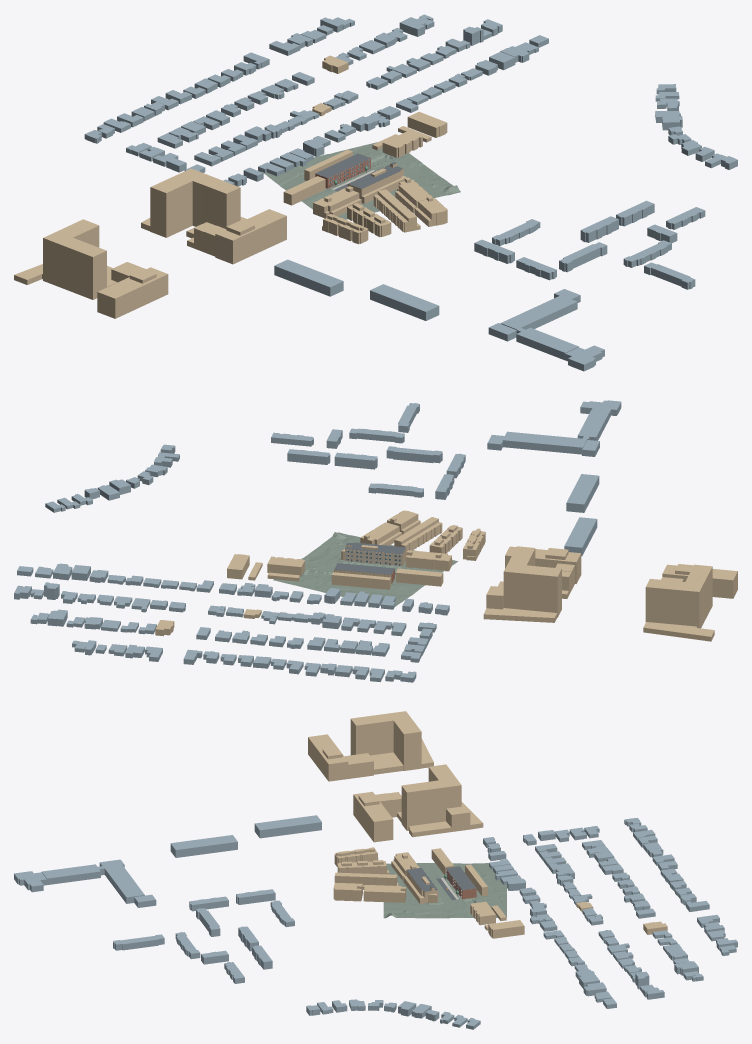
File: BrainSNN_Street_Studio.glb
The picture shows the model from 3 angles, top to bottom: view 1: azimuth 30°, elevation 25°; view 2: azimuth 150°, elevation 25°; view 3: azimuth 270°, elevation 25°; orthographic projection. The views are drawn at different scales.
Visible parts, largest first — view 1: bldg-127798, bldg-127802, terrain-2023-ground, bldg-127793, bldg-129786, bldg-127808, bldg-129787, bldg-128883, bldg-128882, bldg-130161, bldg-128896, bldg-130158 (+9 smaller); view 2: bldg-127802, terrain-2023-ground, bldg-127798, bldg-129786, bldg-129787, bldg-127808, bldg-127803, bldg-128882, bldg-127799, bldg-128883, bldg-130160, bldg-127793 (+13 smaller); view 3: terrain-2023-ground, bldg-127802, bldg-127798, bldg-129786, bldg-127793, bldg-127808, bldg-129787, bldg-128883, bldg-128882, bldg-130134, bldg-130129, bldg-127807 (+5 smaller).
Part boxes in pixels (x1=…): bldg-127798: x1=150, y1=168, x2=240, y2=237; bldg-127802: x1=43, y1=219, x2=106, y2=299; terrain-2023-ground: x1=262, y1=142, x2=460, y2=219; bldg-127793: x1=215, y1=209, x2=286, y2=264; bldg-129786: x1=500, y1=295, x2=578, y2=360; bldg-127808: x1=97, y1=267, x2=168, y2=318; bldg-129787: x1=488, y1=289, x2=604, y2=371; bldg-128883: x1=274, y1=259, x2=343, y2=296; bldg-128882: x1=370, y1=284, x2=439, y2=320; bldg-130161: x1=382, y1=131, x2=422, y2=157; bldg-128896: x1=559, y1=242, x2=607, y2=272; bldg-130158: x1=407, y1=112, x2=447, y2=137; bldg-127802: x1=645, y1=564, x2=712, y2=628; terrain-2023-ground: x1=273, y1=532, x2=457, y2=607; bldg-127798: x1=503, y1=546, x2=561, y2=617; bldg-129786: x1=502, y1=410, x2=609, y2=454; bldg-129787: x1=487, y1=400, x2=621, y2=456; bldg-127808: x1=662, y1=564, x2=737, y2=598; bldg-127803: x1=643, y1=622, x2=714, y2=641; bldg-128882: x1=566, y1=474, x2=599, y2=512; bldg-127799: x1=483, y1=608, x2=557, y2=622; bldg-128883: x1=564, y1=517, x2=597, y2=556; bldg-130160: x1=331, y1=572, x2=390, y2=589; bldg-127793: x1=505, y1=546, x2=581, y2=583; terrain-2023-ground: x1=383, y1=863, x2=506, y2=918; bldg-127802: x1=350, y1=711, x2=421, y2=770; bldg-127798: x1=401, y1=764, x2=461, y2=830; bldg-129786: x1=42, y1=864, x2=144, y2=903; bldg-127793: x1=353, y1=791, x2=393, y2=842; bldg-127808: x1=308, y1=734, x2=348, y2=781; bldg-129787: x1=14, y1=859, x2=156, y2=907; bldg-128883: x1=254, y1=815, x2=321, y2=838; bldg-128882: x1=170, y1=835, x2=237, y2=857; bldg-130134: x1=363, y1=884, x2=406, y2=902; bldg-130129: x1=334, y1=872, x2=396, y2=885; bldg-127807: x1=344, y1=753, x2=373, y2=778.
Bounding box in the file's own units: 670 × 43.28 × 706.
